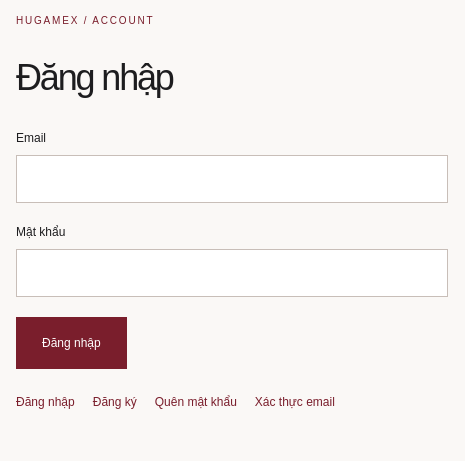
Authentication and admin › reports failed login without exposing technical errors
Type "test@example.invalid" into the field labelled "Email" at (232, 179), box [16,155,448,203]
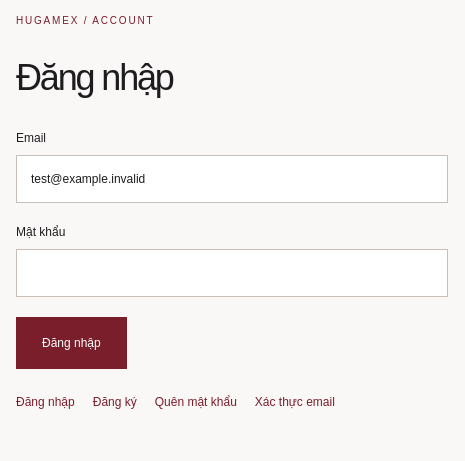
Type "password phrase" into the password field labelled "Mật khẩu" at (232, 273), box [16,249,448,297]
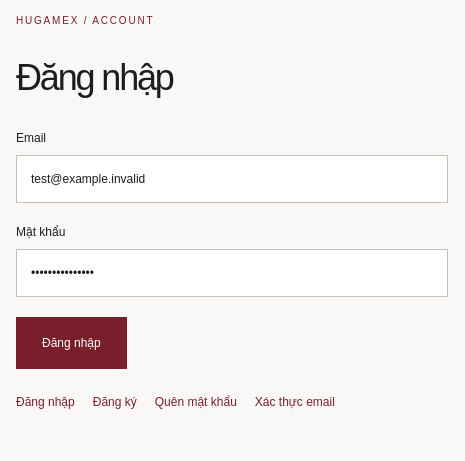
Click the button "Đăng nhập" at (71, 343), box [16,317,127,369]
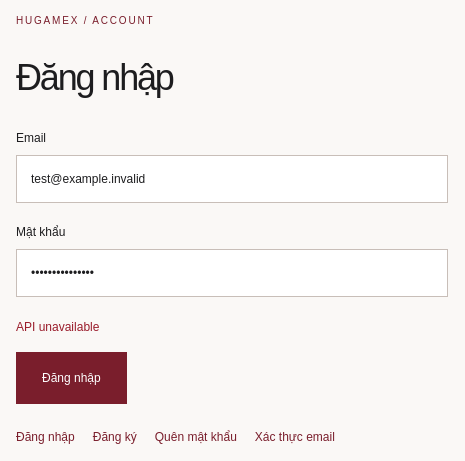
expect the message reads "API unavailable": met, box [16,320,99,334]
